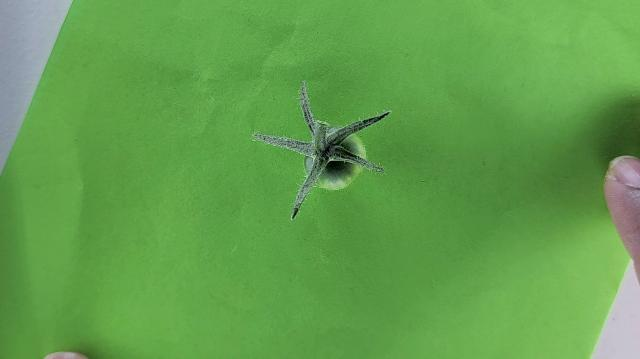Fruit Maturation: (307, 134, 365, 190)
